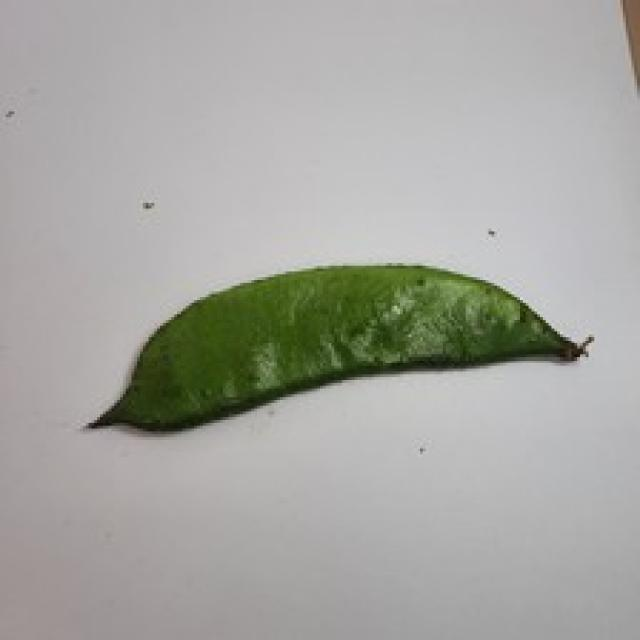Bean: (83, 260, 591, 434)
